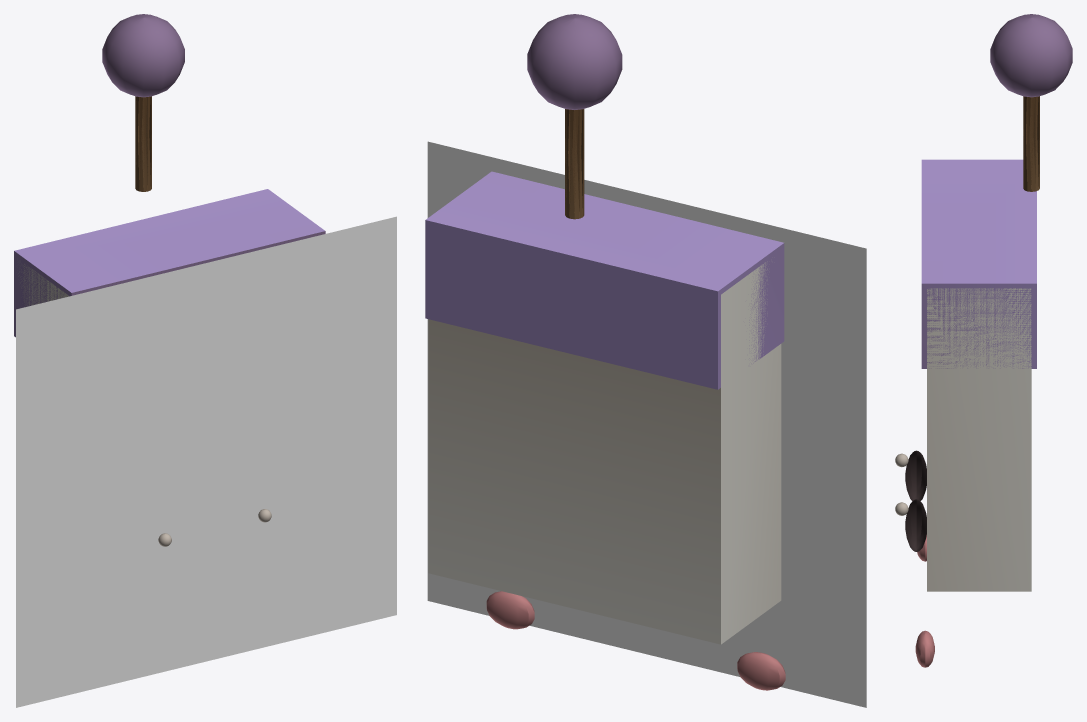
3 views of the same model, side by side, from view 1: azimuth 30°, elevation 25°; view 2: azimuth 150°, elevation 25°; view 3: azimuth 270°, elevation 25° (orthographic). The views are drawn at different scales.
Visible parts, largest first — view 1: pet_p8b9c4cc8; view 2: pet_p8b9c4cc8; view 3: pet_p8b9c4cc8.
Part boxes in pixels (left/top/right/bottom): pet_p8b9c4cc8: left=14, top=14, right=396, bottom=707; pet_p8b9c4cc8: left=425, top=14, right=866, bottom=707; pet_p8b9c4cc8: left=895, top=14, right=1072, bottom=667.
Bounding box in the file's own units: 0.42 × 0.63 × 0.1698.
